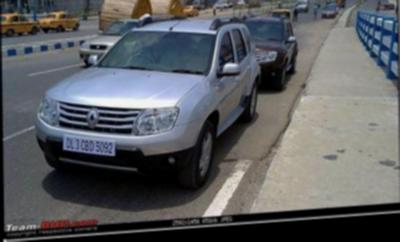License_Plate: (55, 125, 122, 173)
